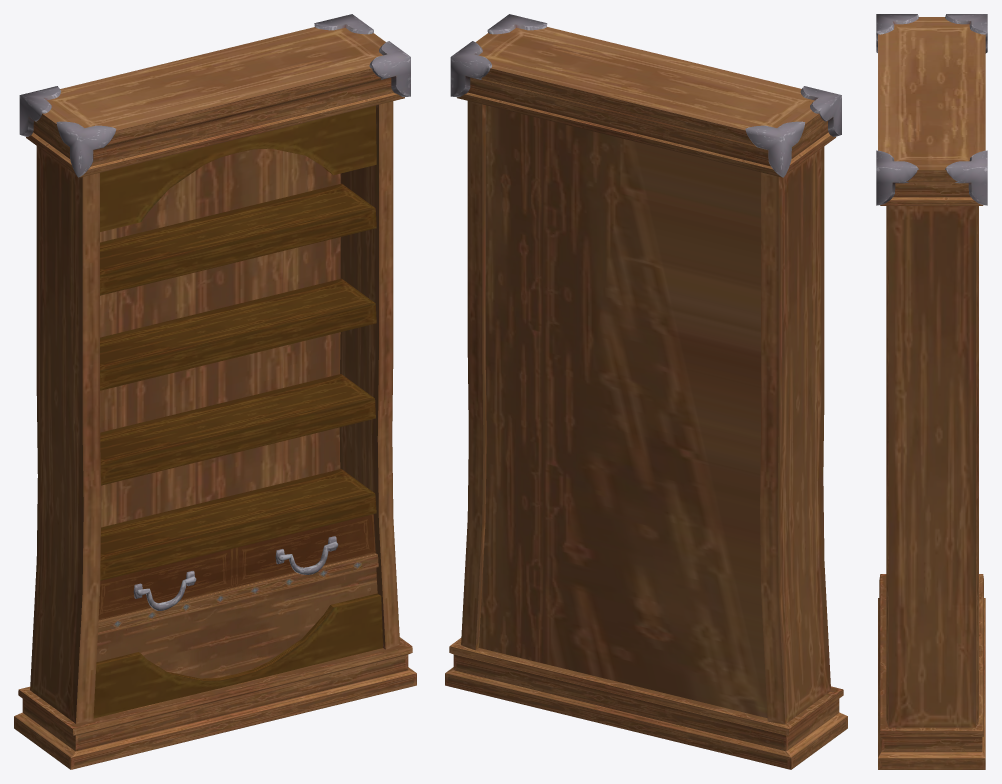
File: Bookcase_2.glb
3 views of the same model, side by side, from view 1: azimuth 30°, elevation 25°; view 2: azimuth 150°, elevation 25°; view 3: azimuth 270°, elevation 25° (orthographic). The views are drawn at different scales.
Visible parts, largest first — view 1: Bookcase_2; view 2: Bookcase_2; view 3: Bookcase_2.
Part boxes in pixels (x1,y1,x2,y2): Bookcase_2: (14, 14, 416, 769); Bookcase_2: (445, 14, 847, 769); Bookcase_2: (876, 14, 987, 769).
Size of the model in its own units: 1.46 by 2.54 by 0.429.
2 materials, 2 textured.
